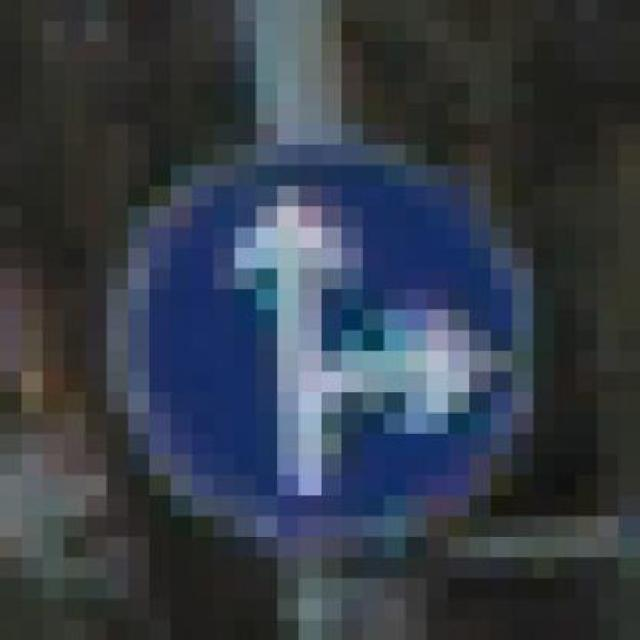Go Straight or Turn Right: (42, 124, 598, 558)
